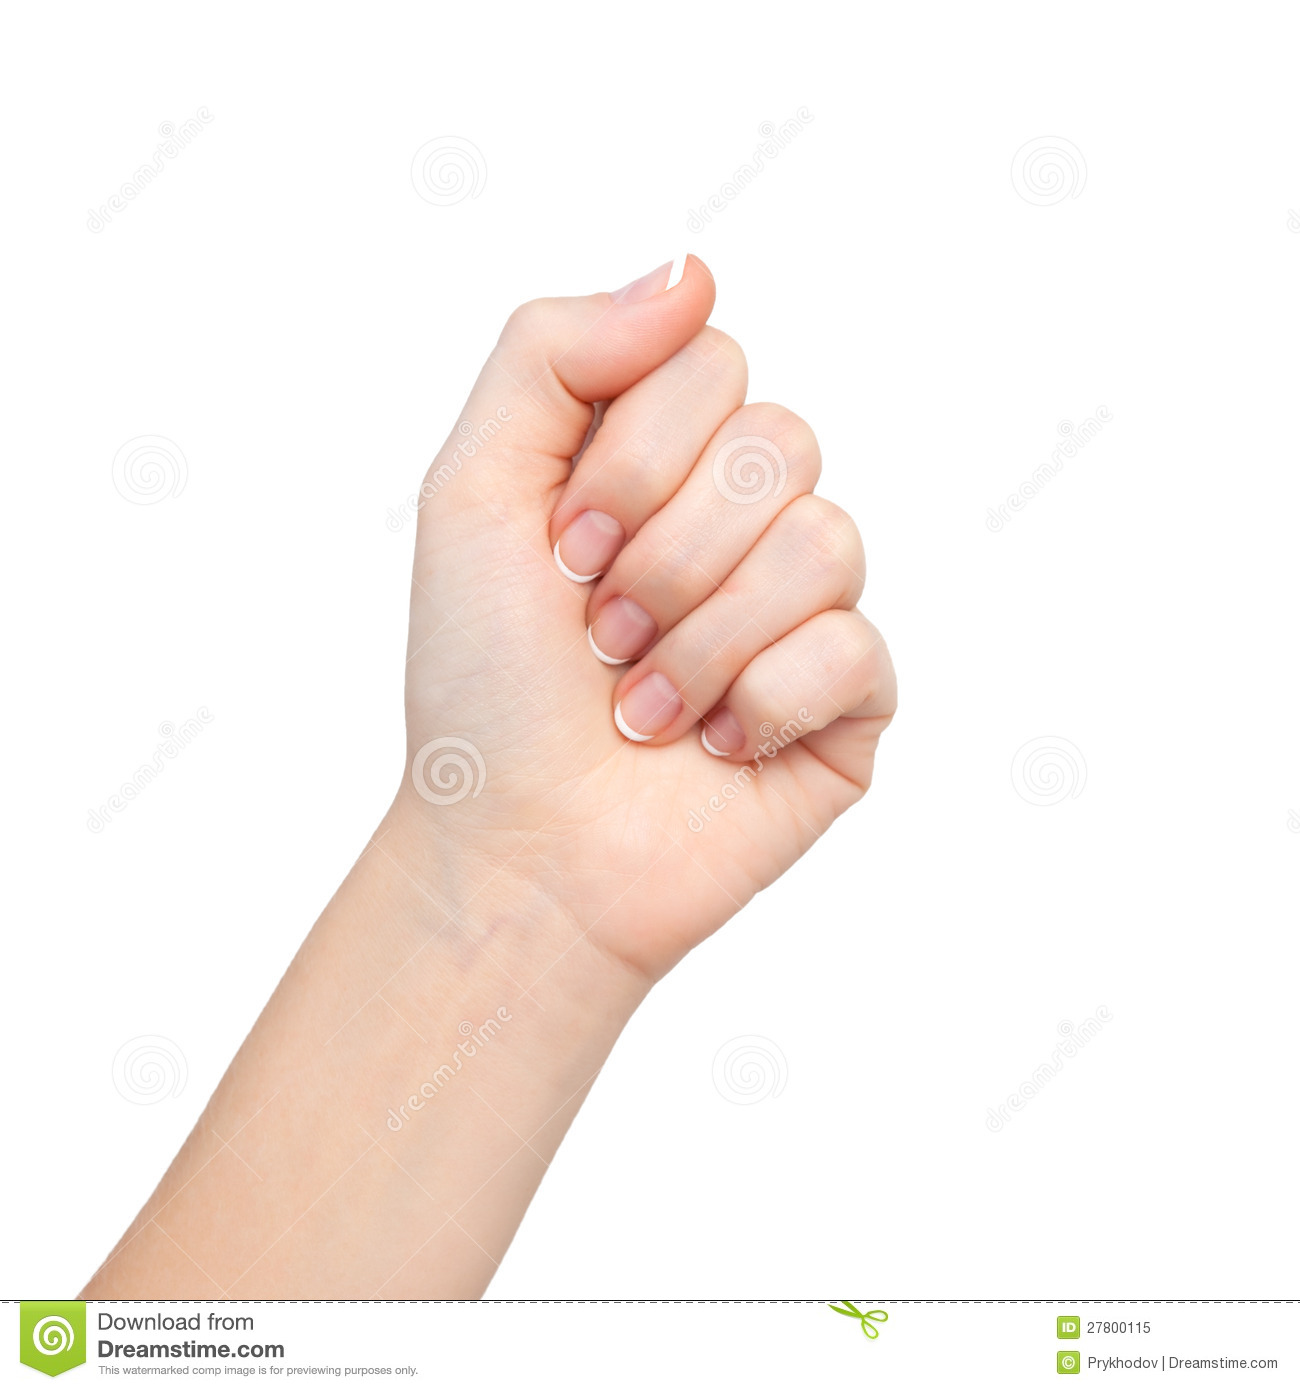fist: (384, 246, 924, 967)
